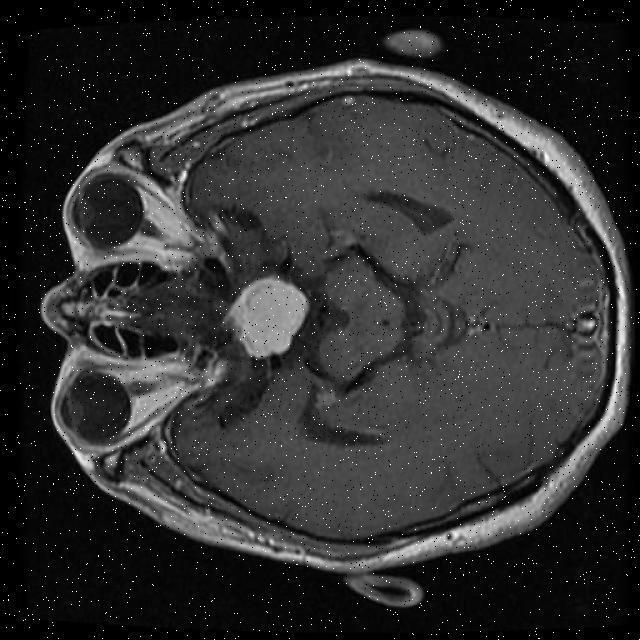Pituitary: (229, 277, 309, 358)
